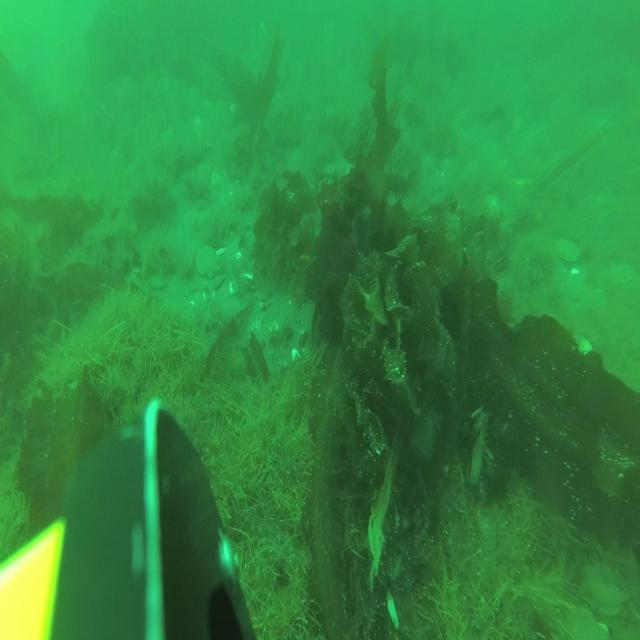scallop: (580, 559, 630, 619), (564, 602, 609, 640), (601, 254, 636, 288), (195, 241, 221, 279), (554, 232, 584, 264), (147, 271, 171, 292), (210, 164, 228, 189), (183, 205, 199, 228)
